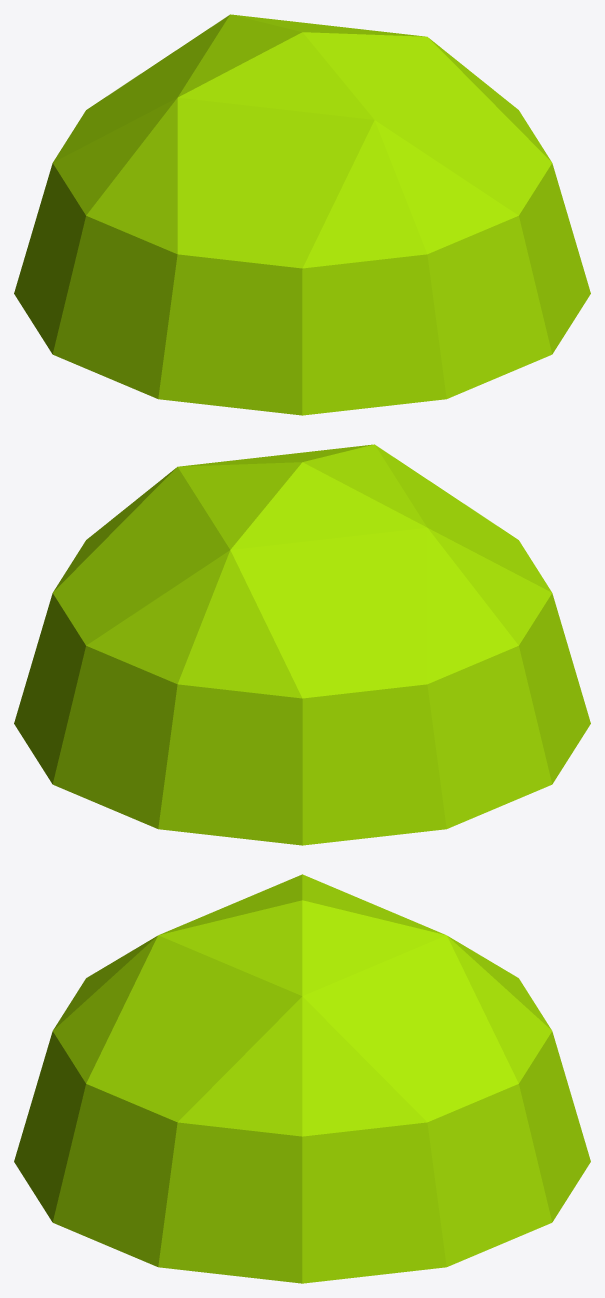
File: Bush.fbx
3 renders of one model, top to bottom at view 1: azimuth 30°, elevation 25°; view 2: azimuth 150°, elevation 25°; view 3: azimuth 270°, elevation 25°, orthographic.
Visible parts, largest first — view 1: Untitled.006; view 2: Untitled.006; view 3: Untitled.006.
Boxes of the visible parts, bbox=[...] form: Untitled.006: bbox=[14, 14, 590, 415]; Untitled.006: bbox=[14, 444, 590, 845]; Untitled.006: bbox=[14, 874, 590, 1283].
Size of the model in its own units: 144 by 72 by 144.
